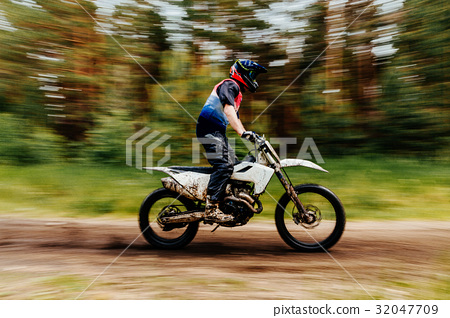helmet: (231, 56, 265, 89)
